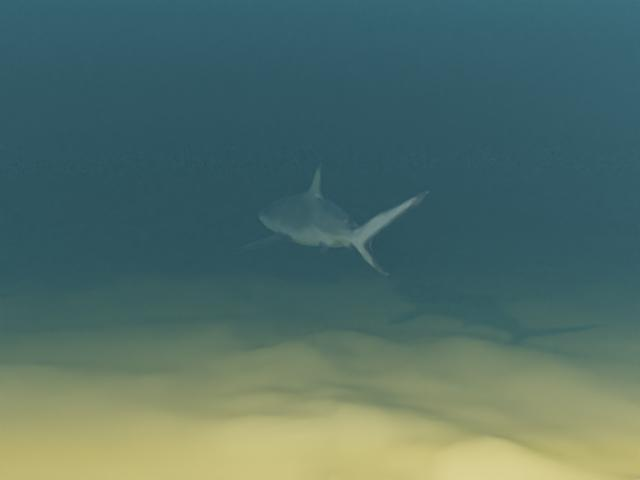Carribean Shark.001: (233, 163, 429, 275)
